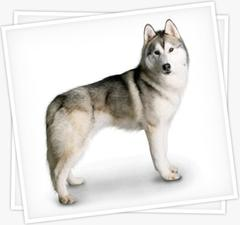husky: (45, 16, 195, 205)
